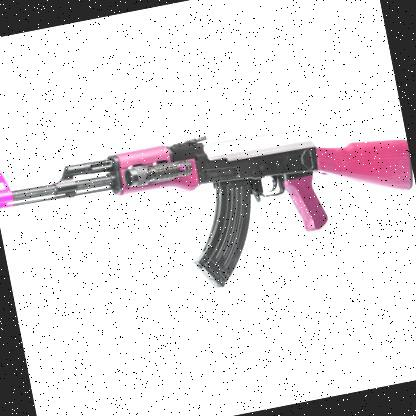rifle: (0, 76, 416, 317)
